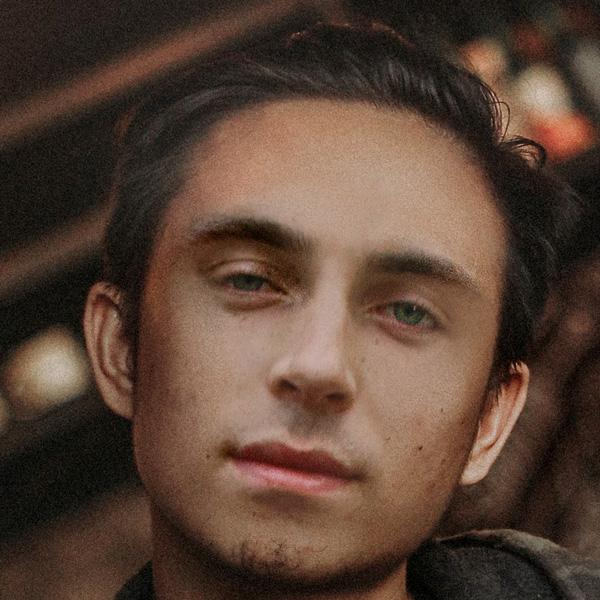Eyes: (355, 272, 458, 354), (199, 246, 296, 312)
